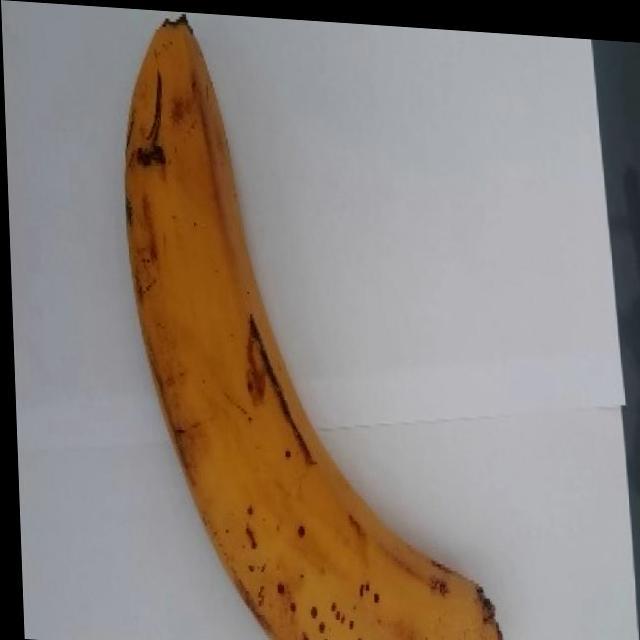Banana: (116, 9, 506, 640)
